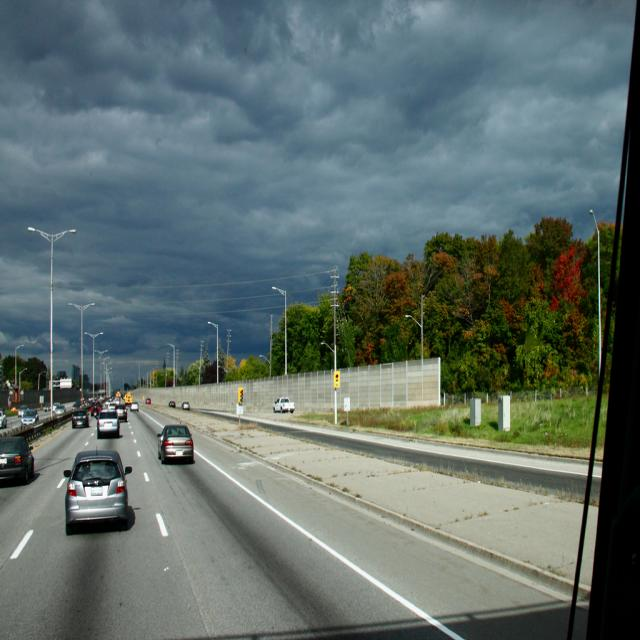car: (60, 449, 129, 533), (159, 423, 191, 463), (95, 402, 121, 434), (69, 404, 91, 431), (274, 391, 294, 413), (128, 399, 137, 413), (179, 399, 190, 409), (166, 400, 175, 407), (143, 395, 148, 406)
